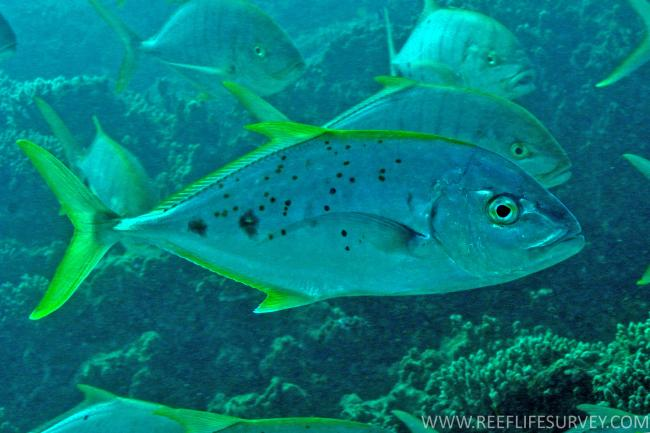fish: (15, 120, 585, 323), (87, 1, 307, 99), (382, 1, 536, 100)
